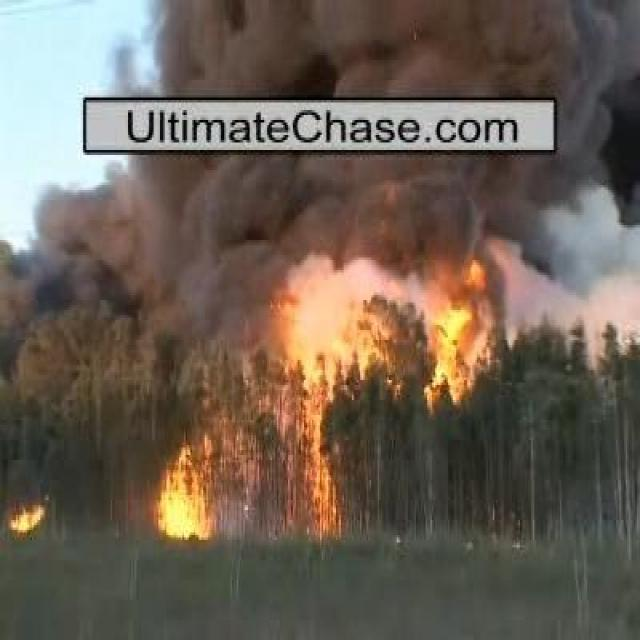fire: (157, 458, 210, 544)
smoke: (68, 158, 636, 284), (138, 0, 636, 88)
